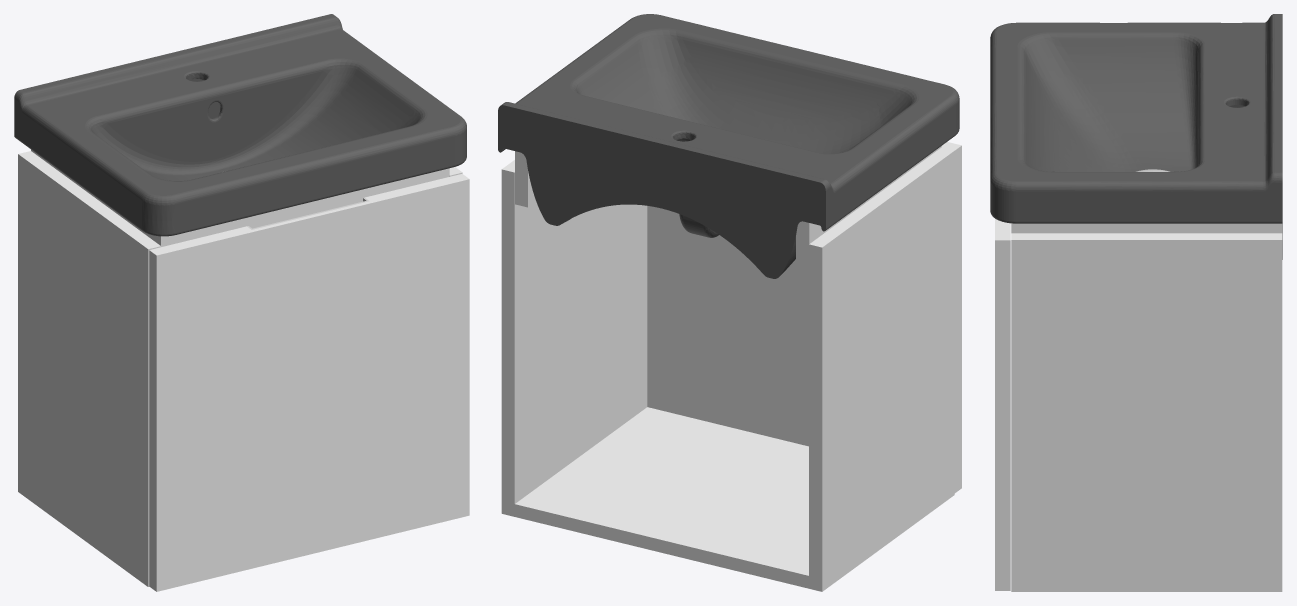
The model's file is AEC_48024.glb.
3 renders of one model, left to right at view 1: azimuth 30°, elevation 25°; view 2: azimuth 150°, elevation 25°; view 3: azimuth 270°, elevation 25°, orthographic. The views are drawn at different scales.
Parts seen in each view (by area): view 1: 0; view 2: 0; view 3: 0.
Boxes of the visible parts, x1,y1,x2,y2 form: 0: (14,14,469,591); 0: (498,14,961,591); 0: (990,14,1282,591).
Size of the model in its own units: 0.45 by 0.5367 by 0.34.
Materials: 1 (1 with a texture image).
